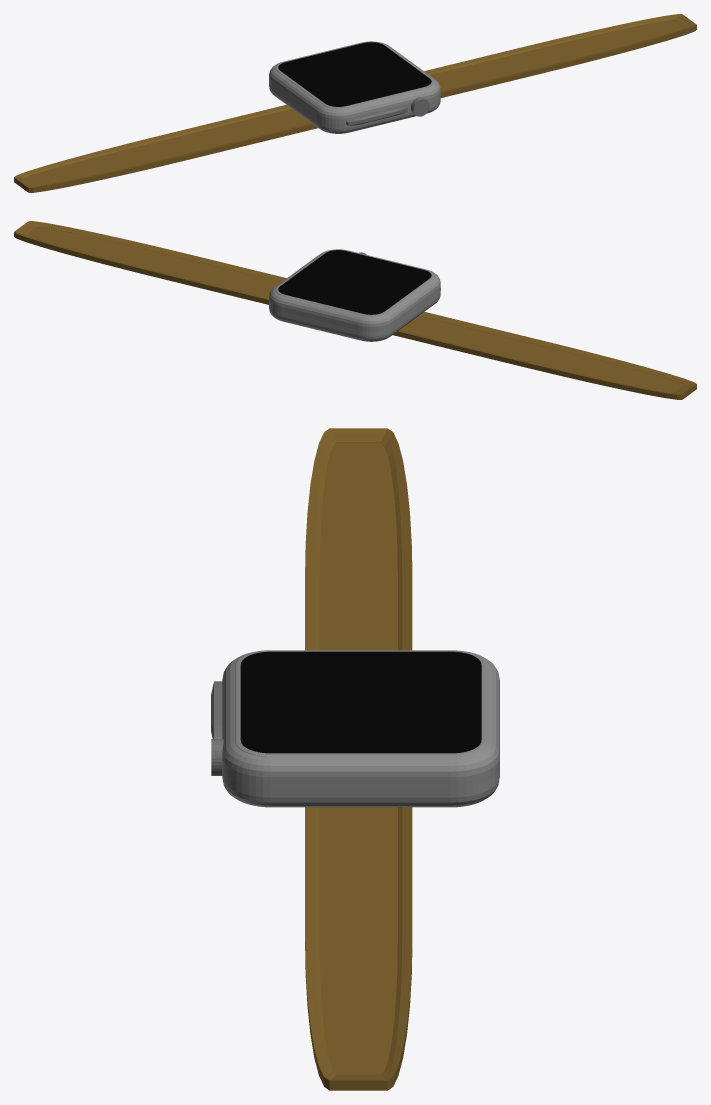
Rendered from Slapwatch.fbx.
The picture shows the model from 3 angles, top to bottom: view 1: azimuth 30°, elevation 25°; view 2: azimuth 150°, elevation 25°; view 3: azimuth 270°, elevation 25°; orthographic projection. The views are drawn at different scales.
Visible parts, largest first — view 1: Cube.002, Cube, Cube.001, Cylinder; view 2: Cube.002, Cube; view 3: Cube.002, Cube.
Part boxes in pixels (x1,y1,x2,y2): Cube.002: (14, 14, 696, 192); Cube: (269, 41, 440, 133); Cube.001: (346, 106, 407, 125); Cylinder: (411, 97, 429, 116); Cube.002: (14, 221, 696, 399); Cube: (269, 249, 440, 341); Cube.002: (305, 428, 412, 1090); Cube: (222, 650, 499, 807).
Size of the model in its own units: 27.8 by 1.23 by 5.2.
